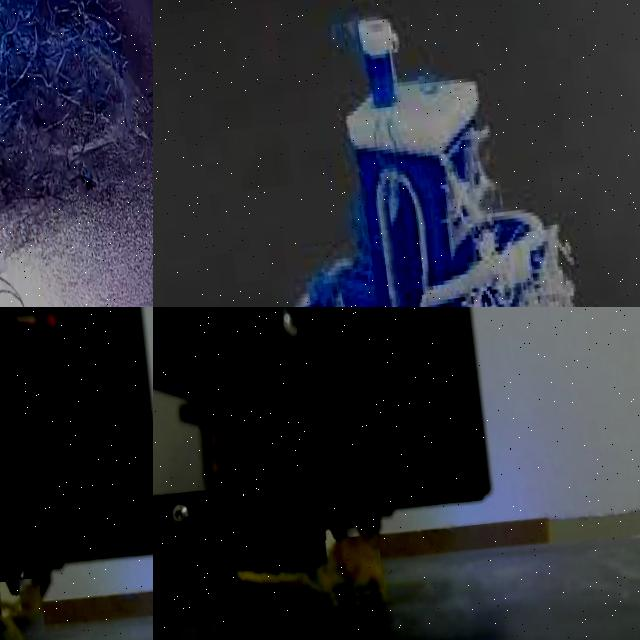spaghetti: (0, 0, 153, 307), (436, 124, 575, 307), (236, 535, 383, 599), (337, 180, 378, 278), (290, 230, 341, 307), (321, 8, 370, 66)
